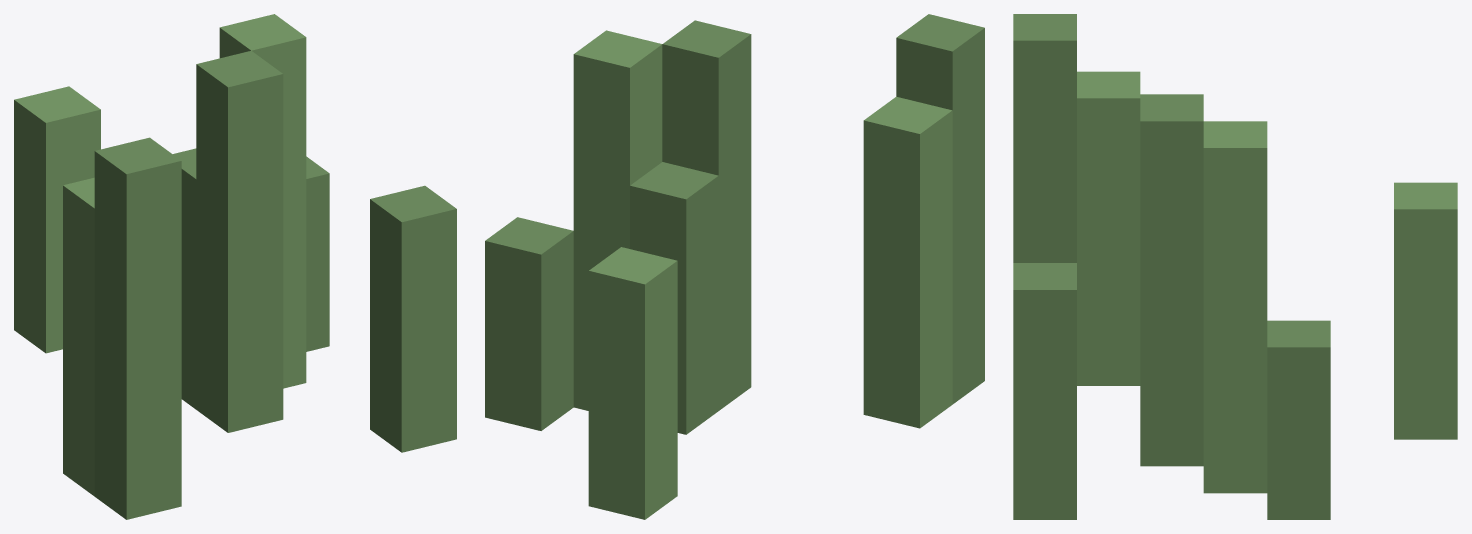
The model's file is ortiga_04.glb.
The picture shows the model from 3 angles, left to right: view 1: azimuth 30°, elevation 25°; view 2: azimuth 150°, elevation 25°; view 3: azimuth 270°, elevation 25°; orthographic projection. The views are drawn at different scales.
Visible parts, largest first — view 1: ortiga_04; view 2: ortiga_04; view 3: ortiga_04.
Part boxes in pixels (x1,y1,x2,y2): ortiga_04: (14,14,456,519); ortiga_04: (485,14,984,519); ortiga_04: (1013,14,1457,519).
Size of the model in its own units: 0.6 by 0.6 by 0.7.
